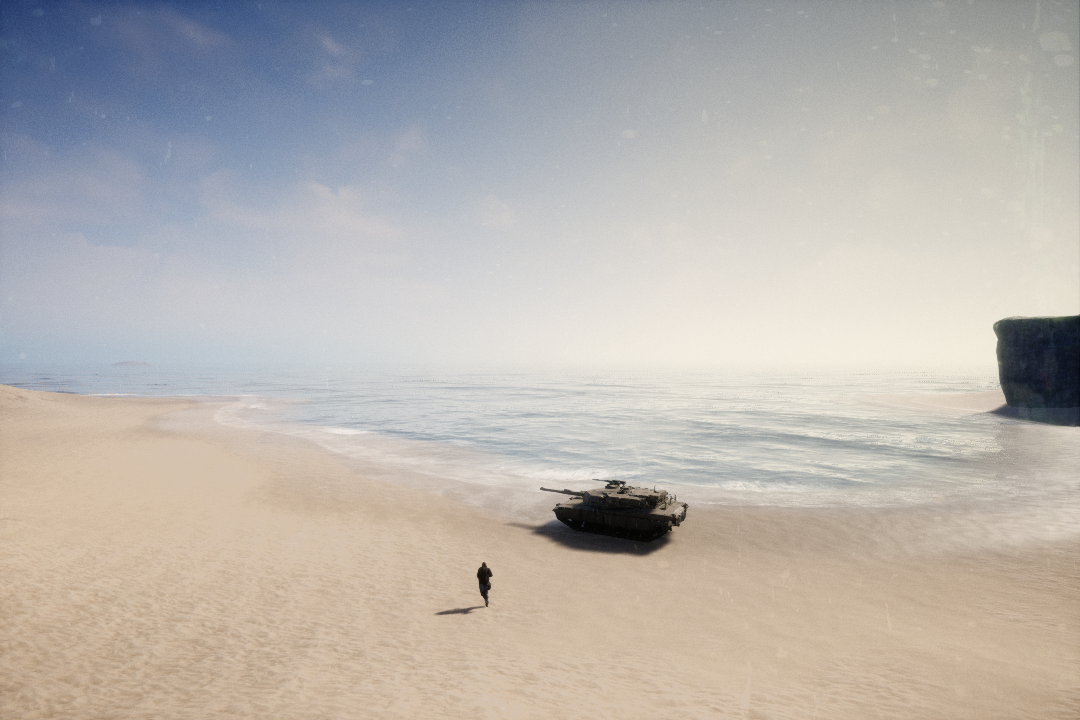person: (474, 557, 500, 611)
tank: (537, 476, 692, 545)
